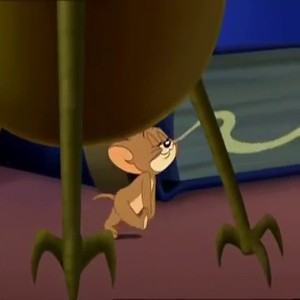Jerry: (101, 125, 180, 237)
